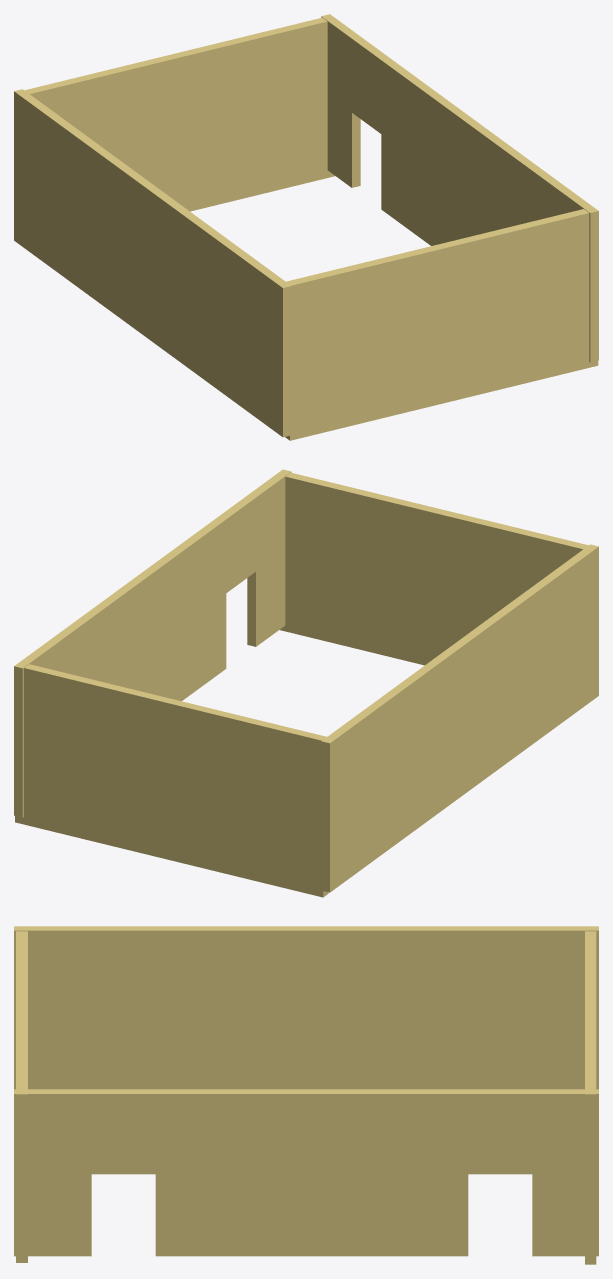
File: waiqiang.fbx
3 renders of one model, top to bottom at view 1: azimuth 30°, elevation 25°; view 2: azimuth 150°, elevation 25°; view 3: azimuth 270°, elevation 25°, orthographic. The views are drawn at different scales.
Visible parts, largest first — view 1: Box01; view 2: Box01; view 3: Box01.
Boxes of the visible parts, x1,y1,x2,y2 form: Box01: (14, 14, 598, 440); Box01: (14, 469, 598, 897); Box01: (14, 926, 598, 1264).
Bounding box in the file's own units: 338 × 160 × 498.
